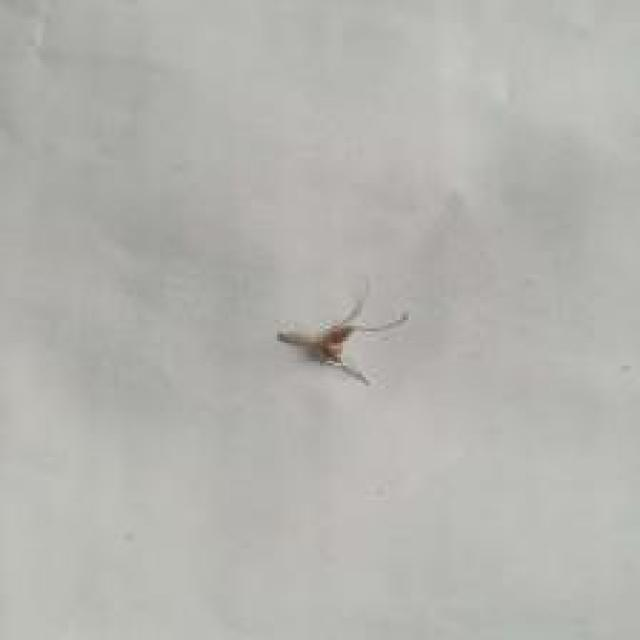Culex: (274, 277, 409, 386)
